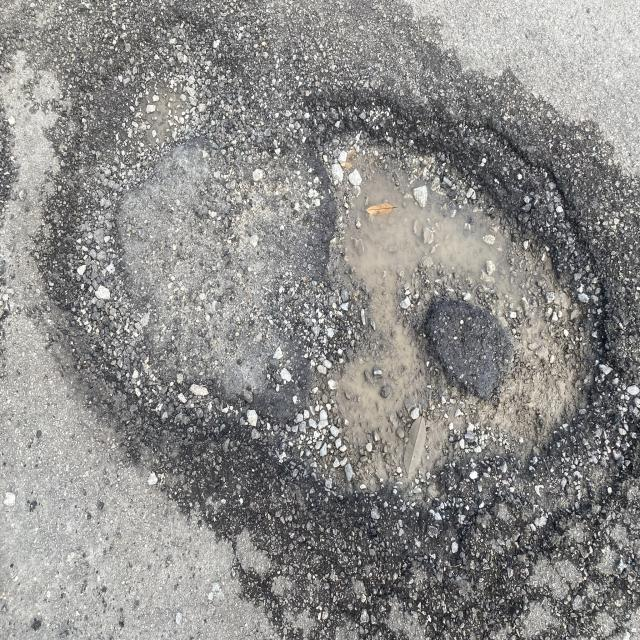pothole: (66, 8, 640, 590)
